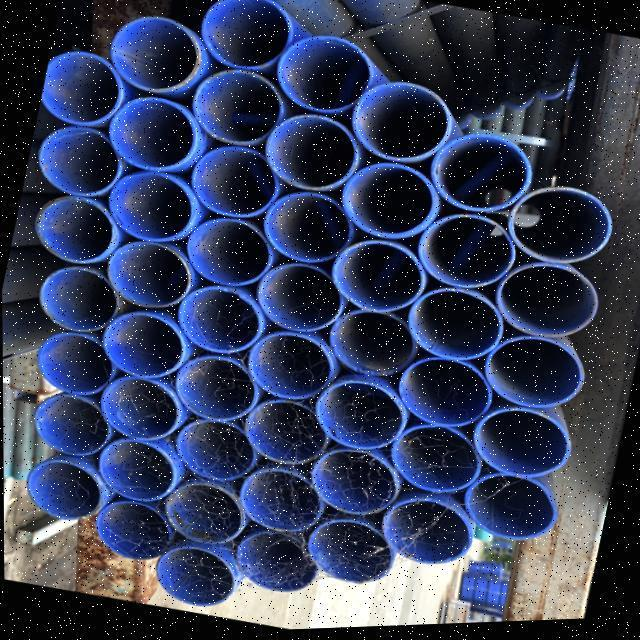pipe: (431, 129, 533, 217), (497, 254, 600, 341), (275, 23, 370, 114), (509, 187, 614, 269), (350, 79, 450, 164), (485, 339, 586, 415), (463, 465, 557, 545), (265, 116, 358, 195), (402, 289, 499, 364), (396, 353, 490, 430), (342, 164, 435, 241), (314, 377, 404, 456), (469, 413, 570, 483), (416, 218, 512, 290), (194, 69, 284, 145), (332, 241, 424, 315), (190, 146, 278, 223), (199, 0, 293, 71), (259, 191, 347, 266), (176, 282, 263, 357), (111, 17, 199, 91), (108, 95, 197, 168), (331, 309, 420, 381), (254, 261, 341, 334), (381, 498, 471, 567), (39, 48, 118, 126), (388, 426, 477, 495), (308, 450, 397, 519), (185, 218, 273, 287), (110, 170, 193, 243), (240, 395, 329, 463), (248, 328, 331, 400), (307, 519, 395, 586), (102, 313, 187, 382), (39, 125, 120, 197), (105, 240, 188, 310), (96, 373, 179, 441), (39, 264, 118, 335), (35, 194, 115, 264), (173, 359, 256, 425), (237, 469, 321, 533), (98, 437, 178, 504), (154, 549, 240, 610), (32, 390, 109, 457), (173, 419, 253, 483), (160, 483, 242, 545), (36, 332, 115, 396), (233, 531, 314, 593), (93, 500, 173, 560), (26, 459, 102, 521)
